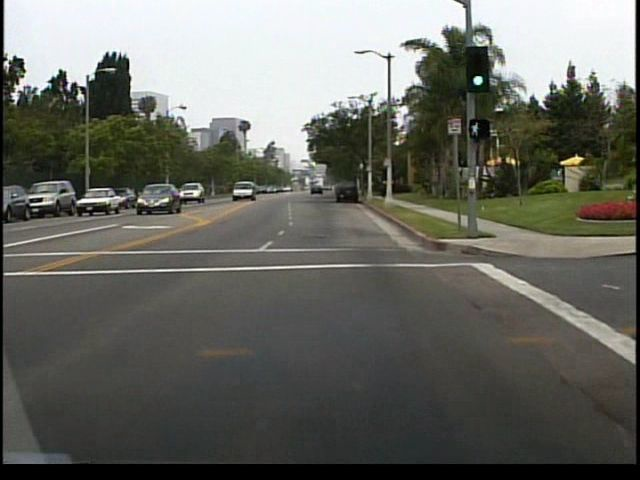person: (383, 173, 395, 200), (379, 177, 388, 201)
